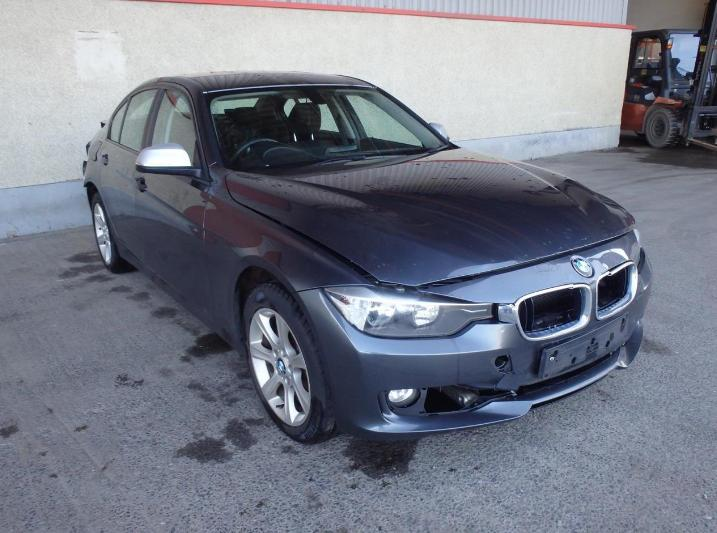Back-door: (100, 82, 165, 260)
Back-wheel: (92, 193, 133, 273)
Back-window: (120, 90, 157, 152), (111, 103, 127, 143)
Fender: (204, 159, 375, 341)
Front-bumper: (291, 230, 654, 442)
Front-door: (132, 82, 212, 314)
Front-wheel: (242, 281, 337, 444)
Front-window: (151, 89, 196, 165)
Grille: (498, 260, 638, 341)
Headlight: (322, 284, 493, 339), (634, 229, 640, 246)
Hood: (226, 148, 637, 287)
License-plate: (538, 311, 629, 379)
Mirror: (134, 139, 207, 180), (429, 122, 450, 141)
Quarter-panel: (83, 137, 106, 194)
Rocker-panel: (116, 237, 247, 358)
Roof: (127, 70, 376, 95)
Tail-light: (86, 141, 92, 157), (82, 161, 88, 177)
Trunk: (94, 119, 109, 138)
Windshield: (207, 85, 455, 176)
